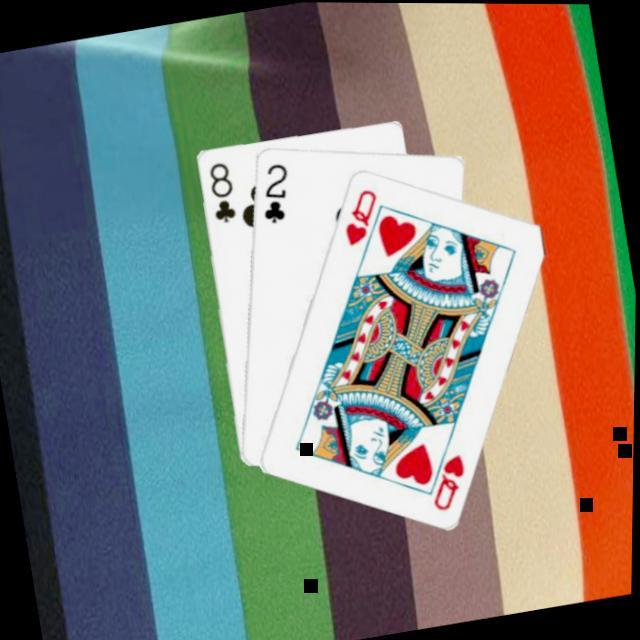2C: (252, 154, 300, 224)
8C: (203, 154, 243, 224)
QH: (418, 431, 478, 512), (337, 180, 390, 246)
